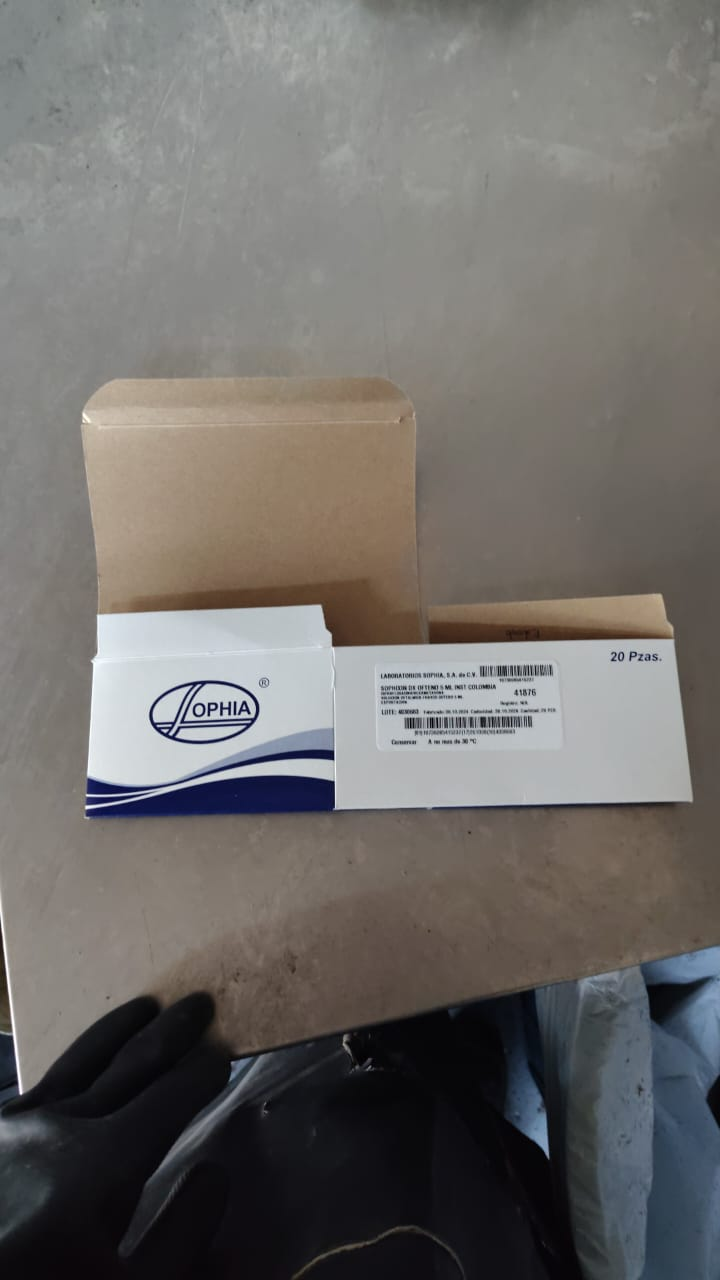Carton: (80, 375, 693, 819)
